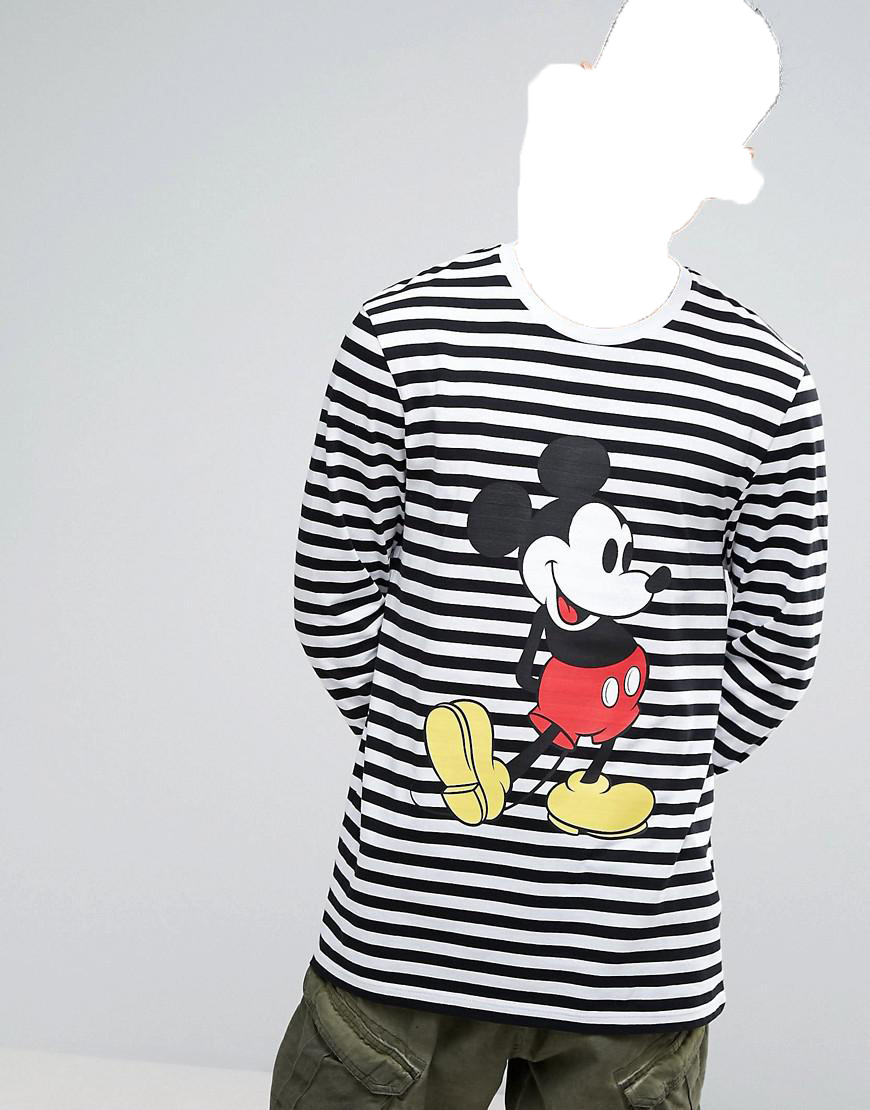teeshirt: (291, 242, 844, 1035)
